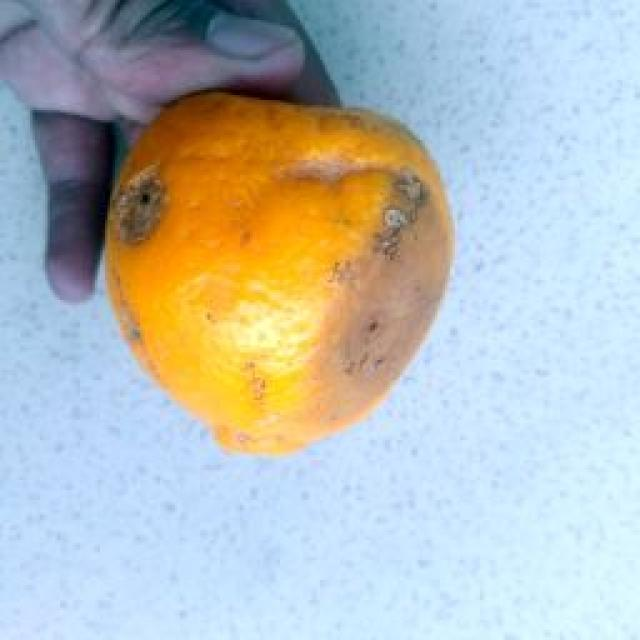Bad_Orange: (108, 92, 452, 453)
